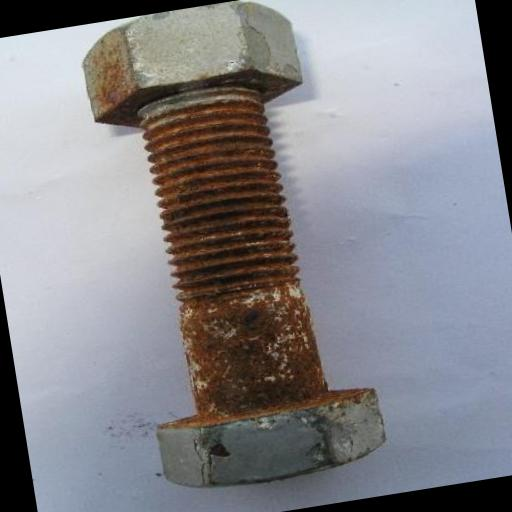segmentation: (142, 89, 328, 417)
